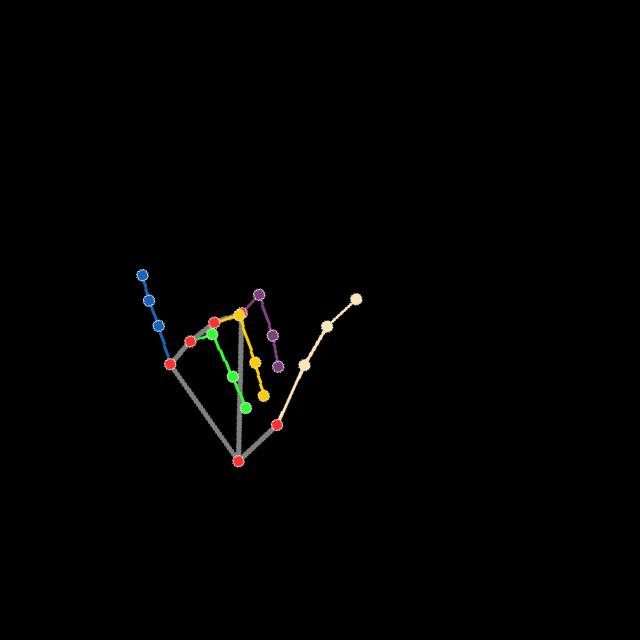skr: (132, 269, 366, 472)
